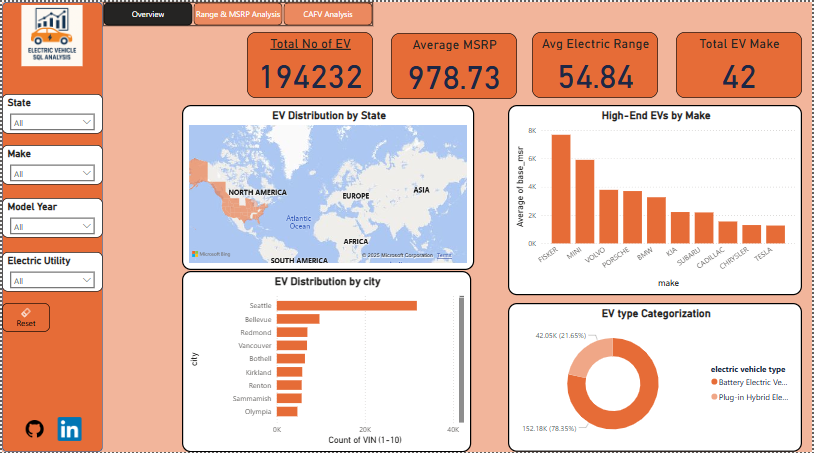

Layout of this report page (visuals, bound fields, positions):
{"tool":"powerbi","page":{"name":"Overview","canvas":[1350,750],"ordinal":0},"visuals":[{"type":"card","title":"Total No of EV","fields":{"Values":["public ev_sales_table.Total Number of EV"]},"box":[408.3,50,210,110],"z":0},{"type":"shape","box":[0,0,168,750],"z":1000},{"type":"card","title":"Average MSRP","fields":{"Values":["public ev_sales_table.avegrage_msrp"]},"box":[648.3,51.7,210,110],"z":2000},{"type":"card","title":"Avg Electric Range","fields":{"Values":["public ev_sales_table.average_electric_range"]},"box":[883.3,50,210,110],"z":3000},{"type":"card","title":"Total EV Make","fields":{"Values":["public ev_sales_table.total_ev_makes"]},"box":[1123.3,50,210,110],"z":4000},{"type":"filledMap","title":"EV Distribution by State","fields":{"Category":["public ev_sales_table.state"],"Series":["public ev_sales_table.electric_vehicle_type"]},"box":[300,171.7,486.7,275],"z":5000},{"type":"clusteredColumnChart","title":"High-End EVs by Make","fields":{"Category":["public ev_sales_table.make"],"Y":["Avg(public ev_sales_table.base_msr)"]},"box":[843.3,171.7,490,316.7],"z":6000},{"type":"slicer","title":"State","fields":{"Values":["public ev_sales_table.state"]},"box":[0,154,168,66],"z":7000},{"type":"slicer","title":"Make","fields":{"Values":["public ev_sales_table.make"]},"box":[0,238,168,66],"z":8000},{"type":"slicer","title":"Model Year","fields":{"Values":["public ev_sales_table.model_year"]},"box":[0,326,168,66],"z":9000},{"type":"slicer","title":"Electric Utility","fields":{"Values":["public ev_sales_table.electric_utility"]},"box":[0,416,168,66],"z":10000},{"type":"image","box":[24,0,120,112],"z":11000},{"type":"barChart","title":"EV Distribution by city","fields":{"Category":["public ev_sales_table.city"],"Y":["CountNonNull(public ev_sales_table.VIN (1-10))"]},"box":[300,448.3,481.7,301.7],"z":12000},{"type":"image","box":[82,686,62,50],"z":13000},{"type":"image","box":[28,686,52,50],"z":14000},{"type":"actionButton","box":[0,501.7,80,48.3],"z":15000},{"type":"donutChart","title":"EV type Categorization","fields":{"Y":["CountNonNull(public ev_sales_table.VIN (1-10))"],"Category":["public ev_sales_table.electric_vehicle_type"]},"box":[843.3,501.7,490,248.3],"z":16000},{"type":"pageNavigator","box":[168.3,0,450,40],"z":17001}]}

Visuals, with their boxes in screenshot pixels (x1, y1, x2, y2), scaled from the page's 1350x750 canvas onto the 814x453 screenshot:
"Total No of EV" card: Rect(246, 30, 373, 97)
shape: Rect(0, 0, 101, 452)
"Average MSRP" card: Rect(391, 31, 518, 98)
"Avg Electric Range" card: Rect(533, 30, 659, 97)
"Total EV Make" card: Rect(677, 30, 804, 97)
"EV Distribution by State" filledMap: Rect(181, 104, 474, 270)
"High-End EVs by Make" clusteredColumnChart: Rect(508, 104, 804, 295)
"State" slicer: Rect(0, 93, 101, 133)
"Make" slicer: Rect(0, 144, 101, 184)
"Model Year" slicer: Rect(0, 197, 101, 237)
"Electric Utility" slicer: Rect(0, 251, 101, 291)
image: Rect(14, 0, 87, 68)
"EV Distribution by city" barChart: Rect(181, 271, 471, 452)
image: Rect(49, 414, 87, 445)
image: Rect(17, 414, 48, 445)
actionButton: Rect(0, 303, 48, 332)
"EV type Categorization" donutChart: Rect(508, 303, 804, 452)
pageNavigator: Rect(101, 0, 373, 24)
